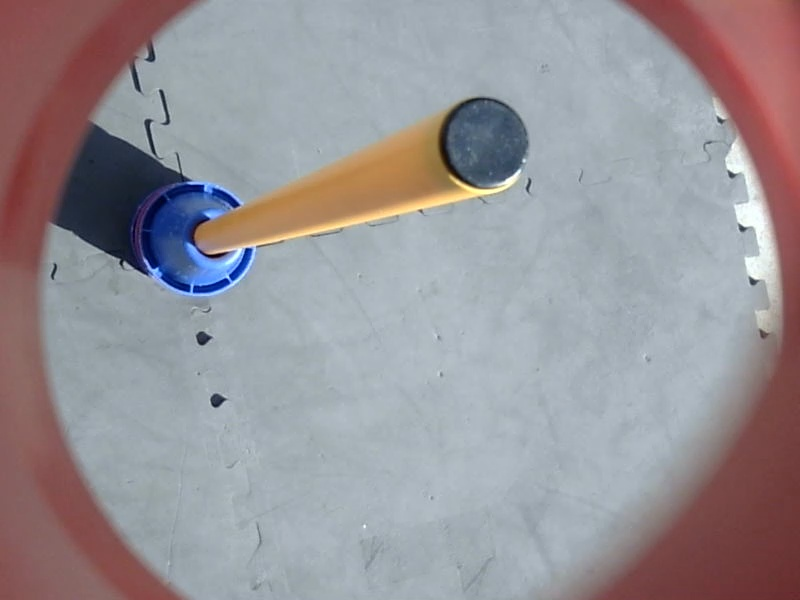tip: (431, 91, 535, 194)
